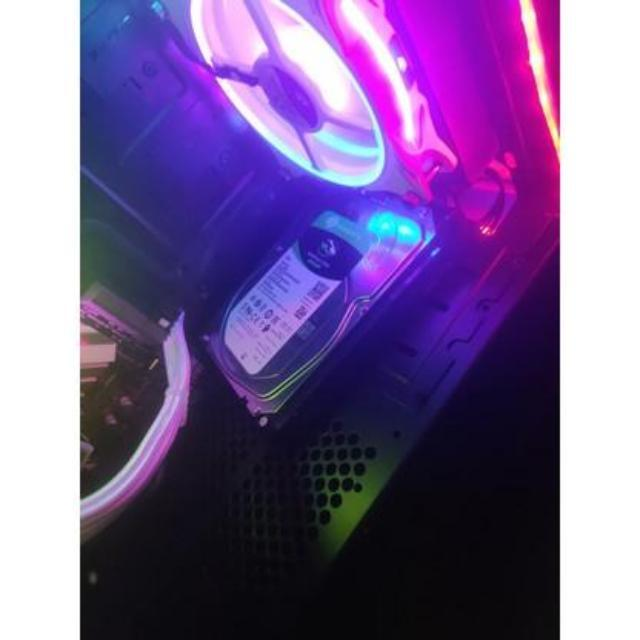DISK: (200, 182, 446, 428)
